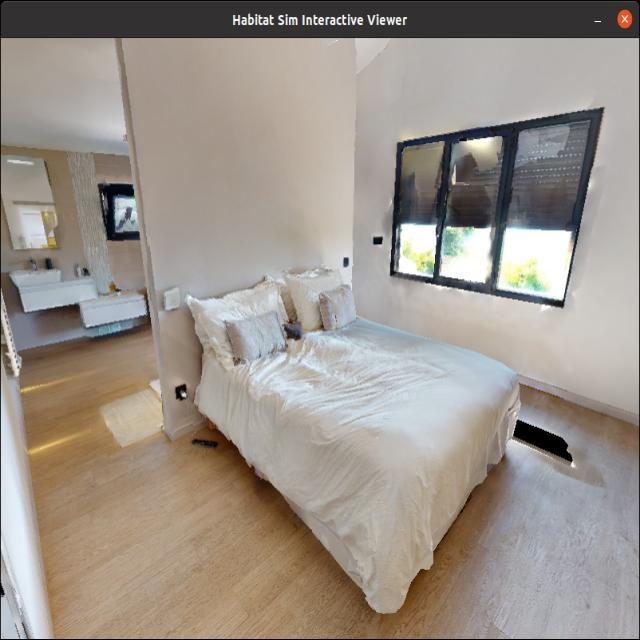bed: (187, 261, 514, 609)
door-frame: (0, 40, 193, 445)
